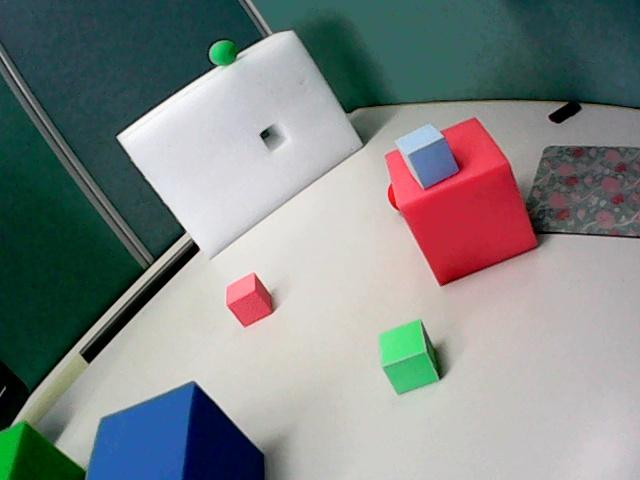blue_block: (87, 383, 263, 479), (395, 124, 458, 188)
red_block: (386, 118, 536, 284), (226, 273, 273, 327)
